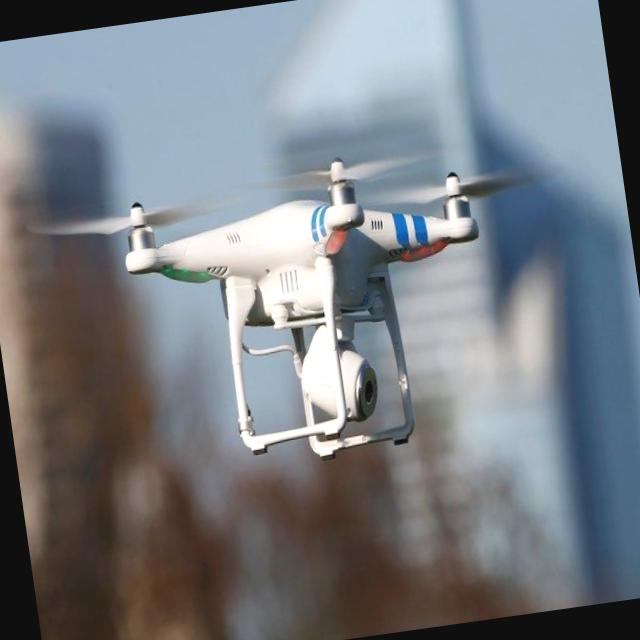drone: (116, 136, 510, 487)
